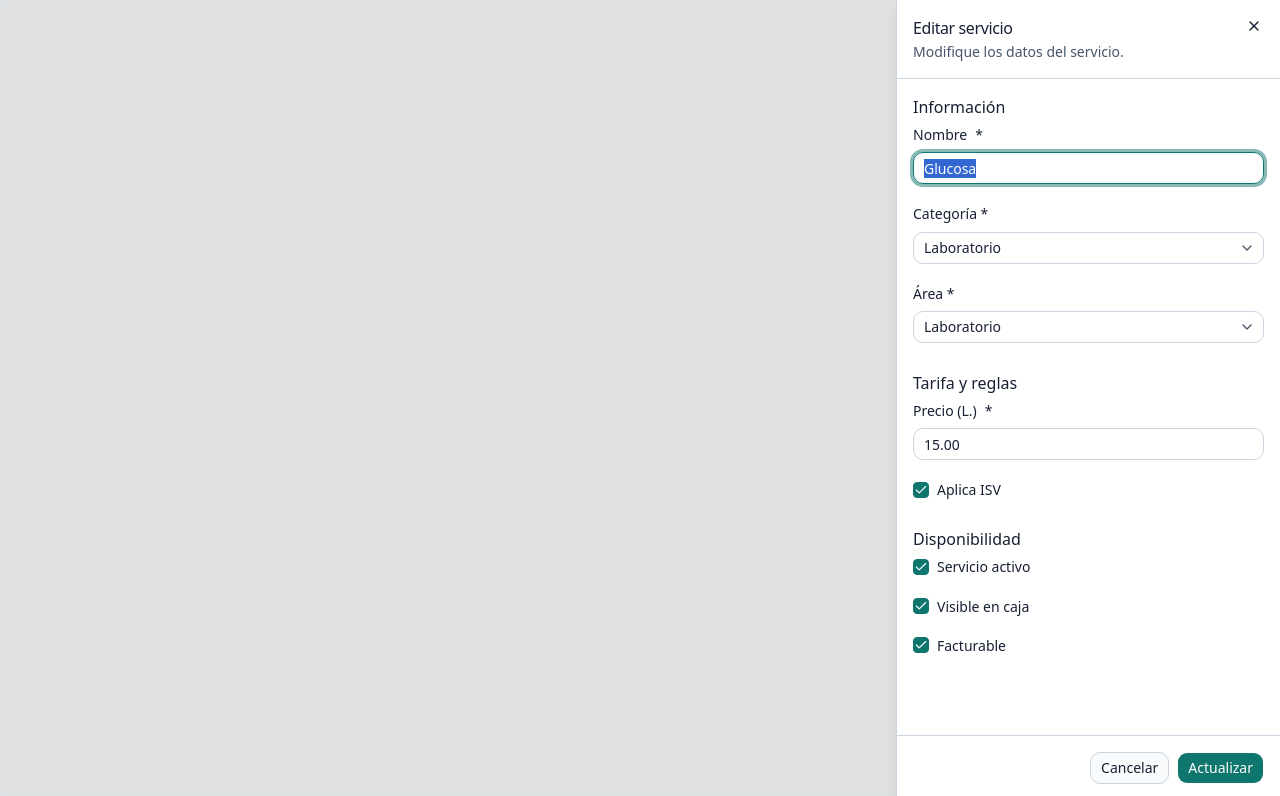
Test: ServiceDrawer › summarizes audited catalog changes before saving
The image size is (1280, 796).
Expected: the text "cambios auditados" is not shown
Replace the text in the field labelled "Precio (L.) *" with "20.00" at (1088, 444), box [913,428,1264,460]
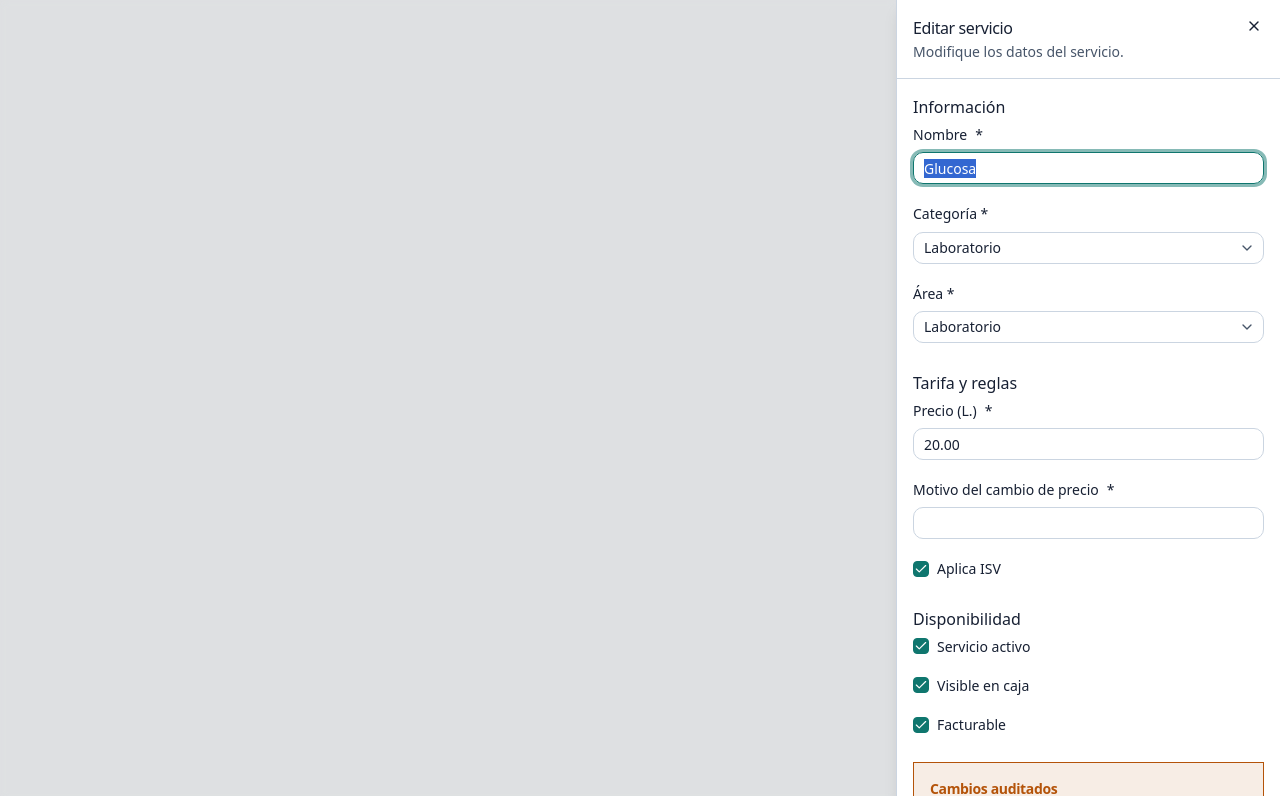
Click the checkbox named "aplica isv" next to "Aplica ISV".
click(921, 569)  # box [913,561,929,577]
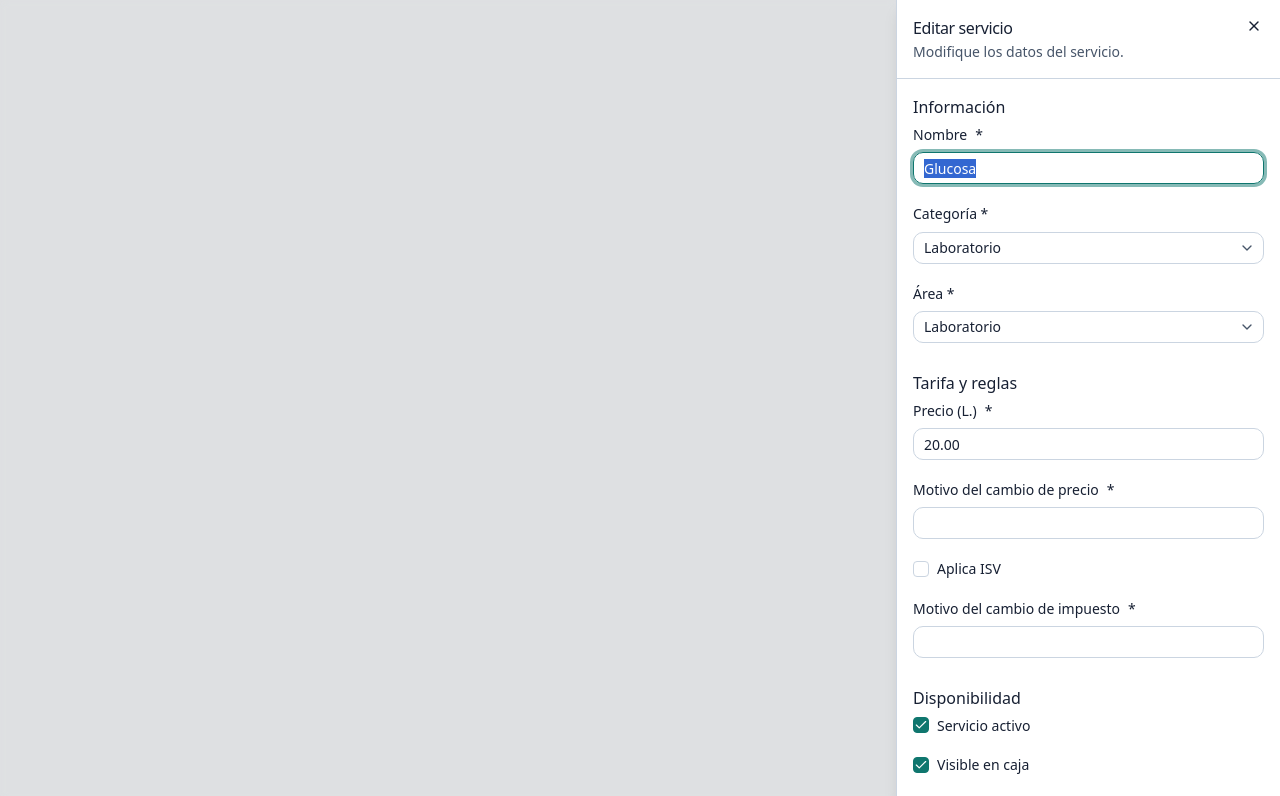
Click the checkbox named "visible en caja" next to "Visible en caja".
click(921, 765)  # box [913,757,929,773]
(page scrolled)
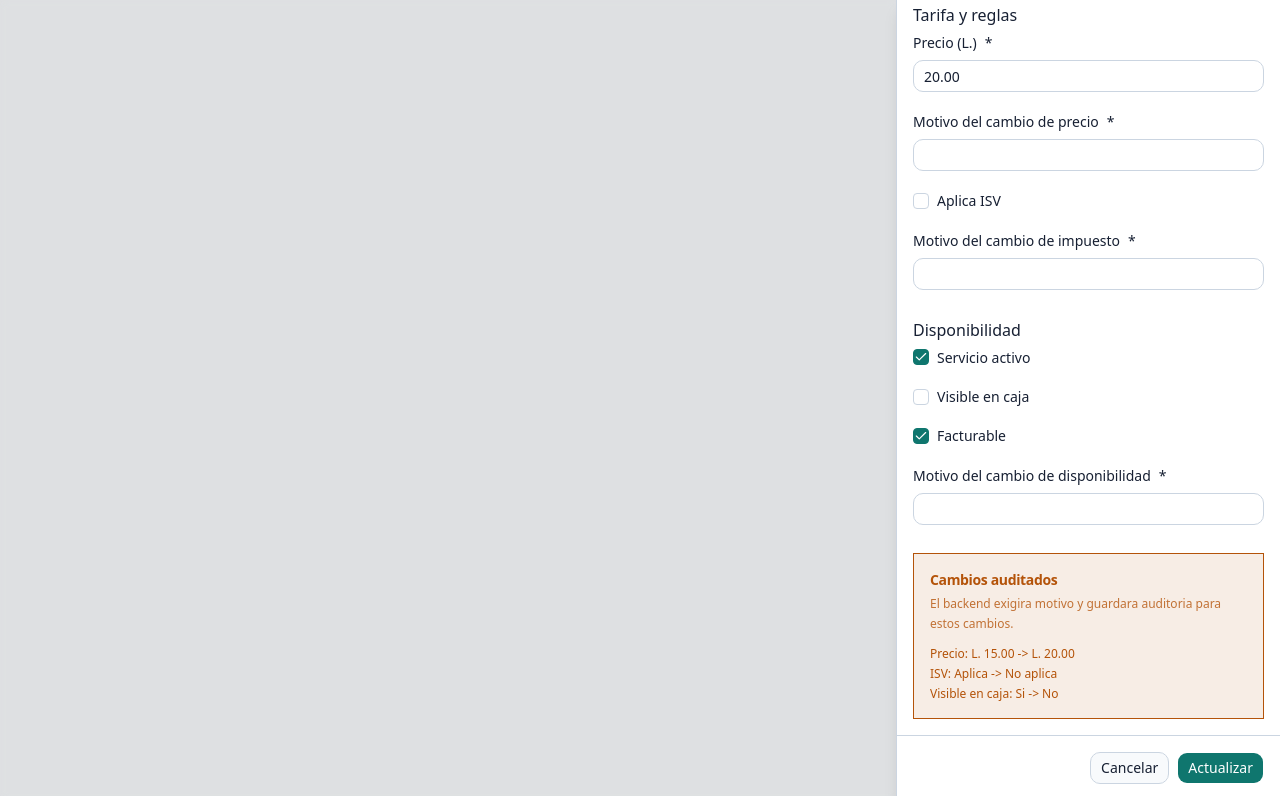
Result: the heading "Cambios auditados" is shown at [930,570,1057,589]
Result: the list item "Precio: L. 15.00 -> L. 20.00" is shown at [930,645,1075,662]
Result: the list item "ISV: Aplica -> No aplica" is shown at [930,665,1057,682]
